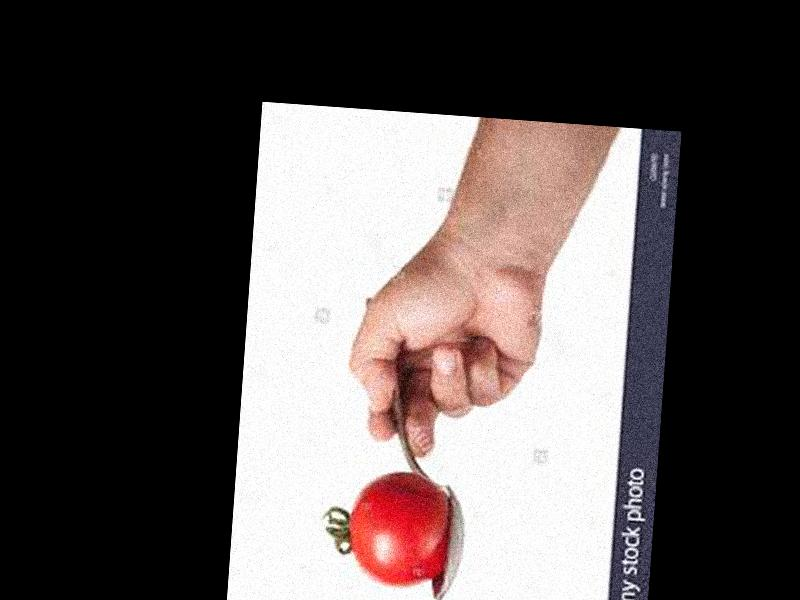Tomato: (344, 467, 451, 587)
